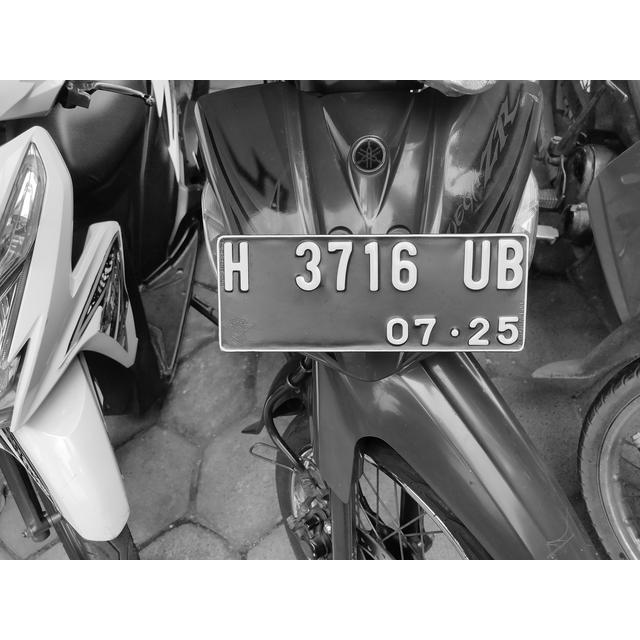license: (220, 238, 521, 348)
